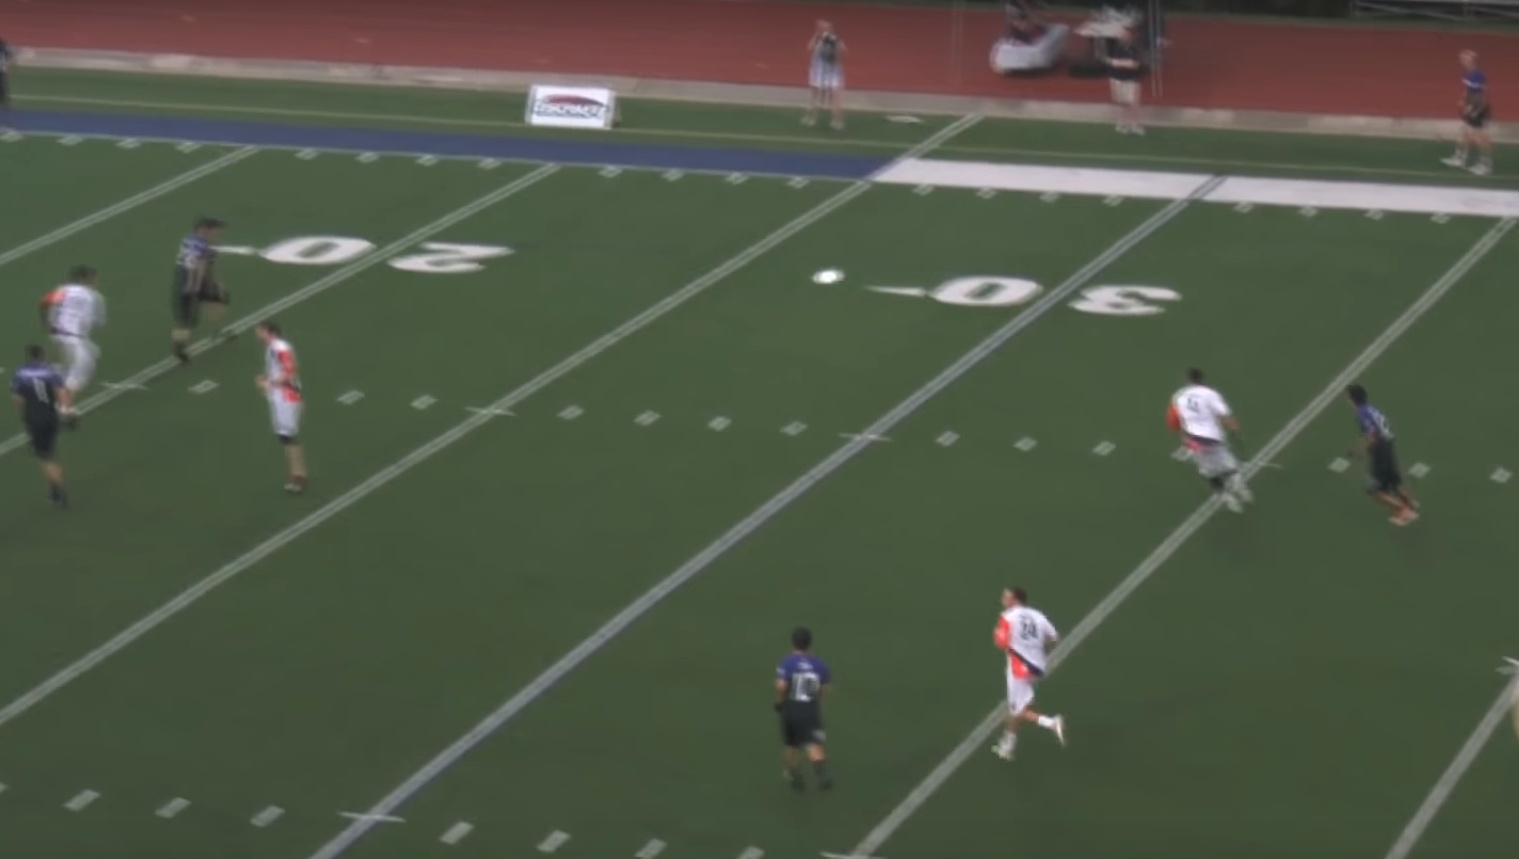frisbee: (812, 267, 845, 286)
